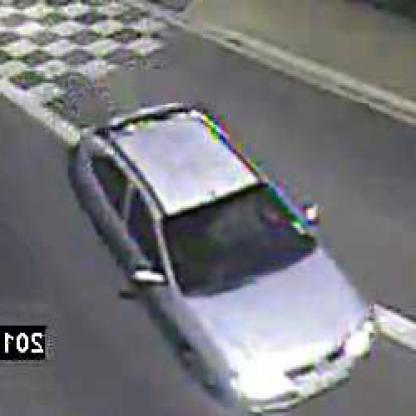car: (68, 104, 371, 415)
